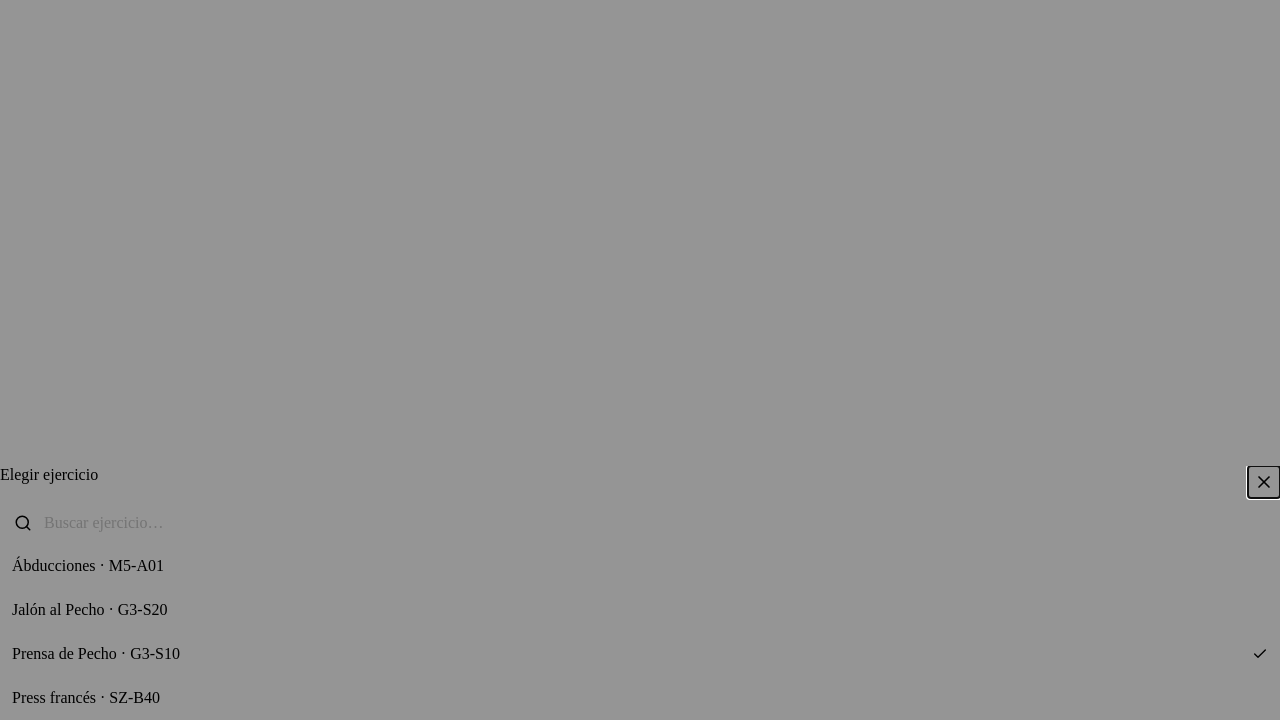
ExercisePickerSheet — search (AC12, OQ3 diacritic-insensitive by reuse) › matches case- AND accent-insensitively against display name incl. suffix
The image size is (1280, 720).
Step 1. Type "FRANCÉS" into the field labelled "Buscar ejercicio…" → (654, 523), box [42,513,1266,533]
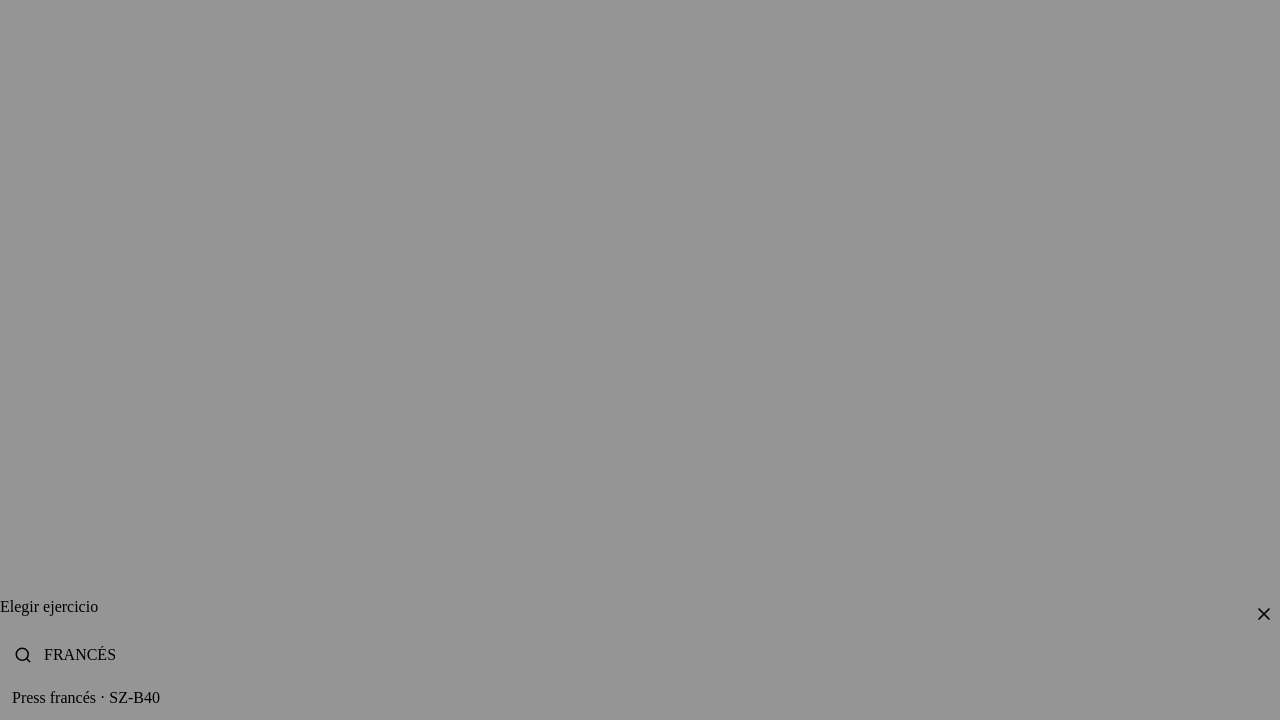
Expected: the button "Press francés · SZ-B40" is shown, [0,676,1279,719]
Expected: the button "Prensa de Pecho" is gone
